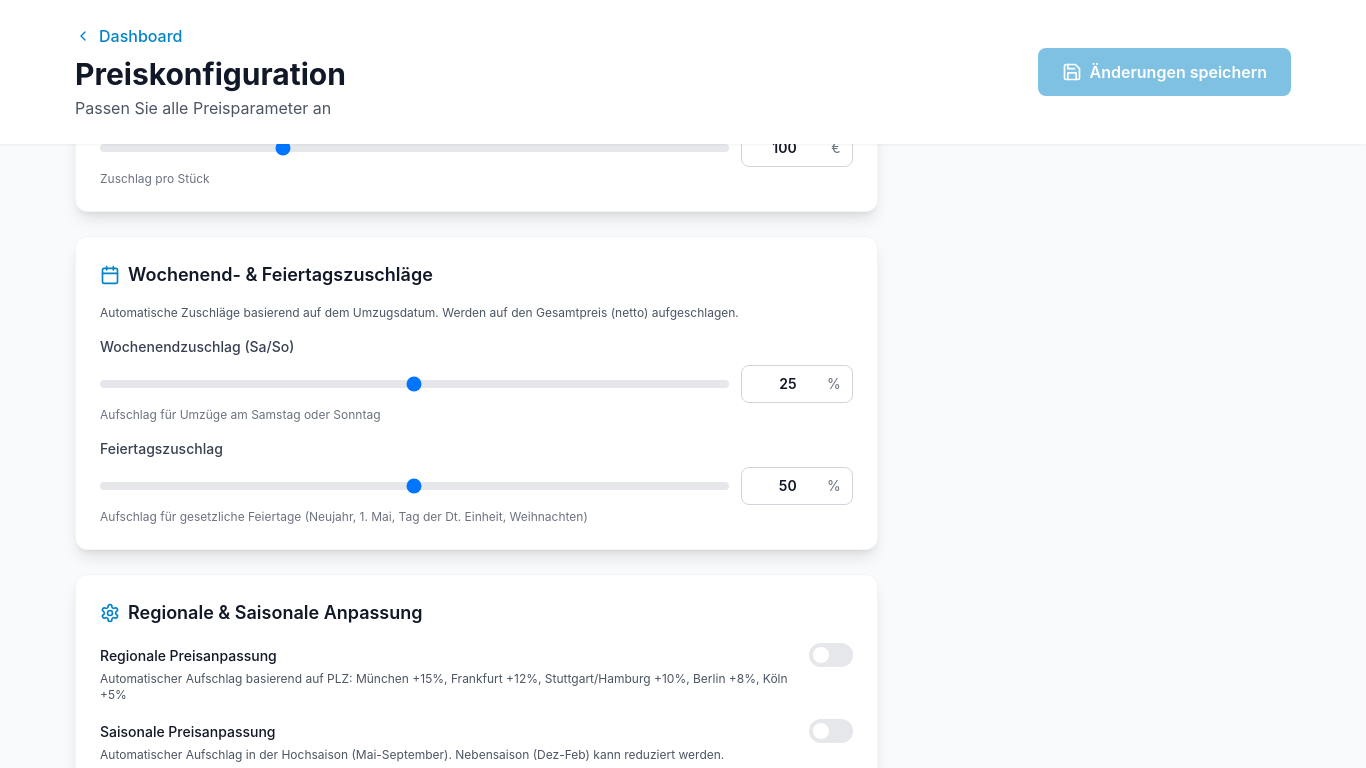
Calculation updates on config change › weekend preview updates when weekend surcharge changes
(page scrolled)
Replace the text in the 2nd number field with "50" at (797, 384), box [741,365,853,403]
(page scrolled)
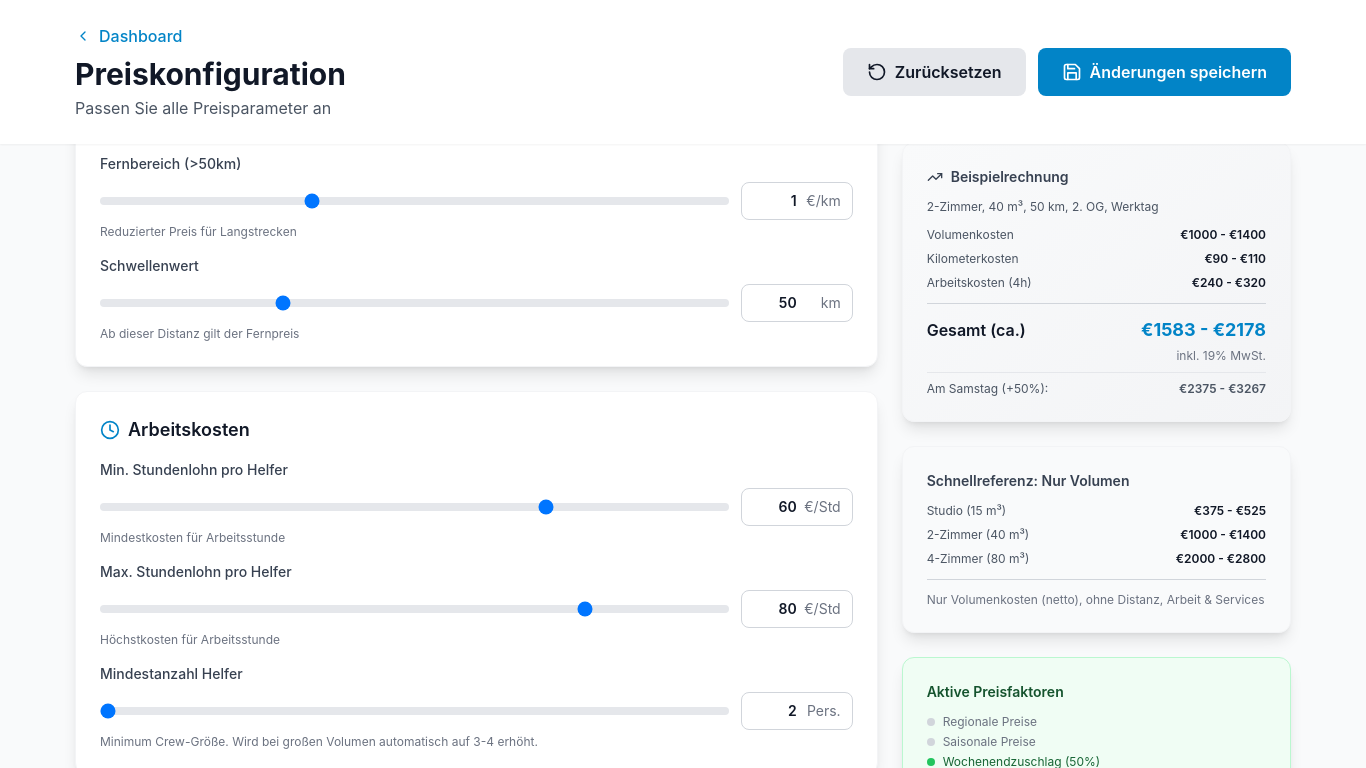
Check: the text "Am Samstag (+50%):" is shown, box [927,381,1048,397]
Check: the text "Am Samstag (+50%): €2375 - €3267" is shown, box [927,372,1266,397]
